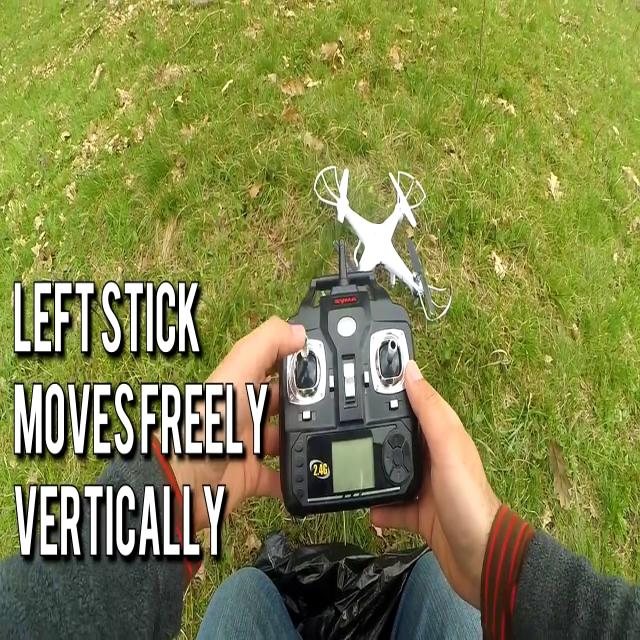drones: (314, 153, 455, 333)
